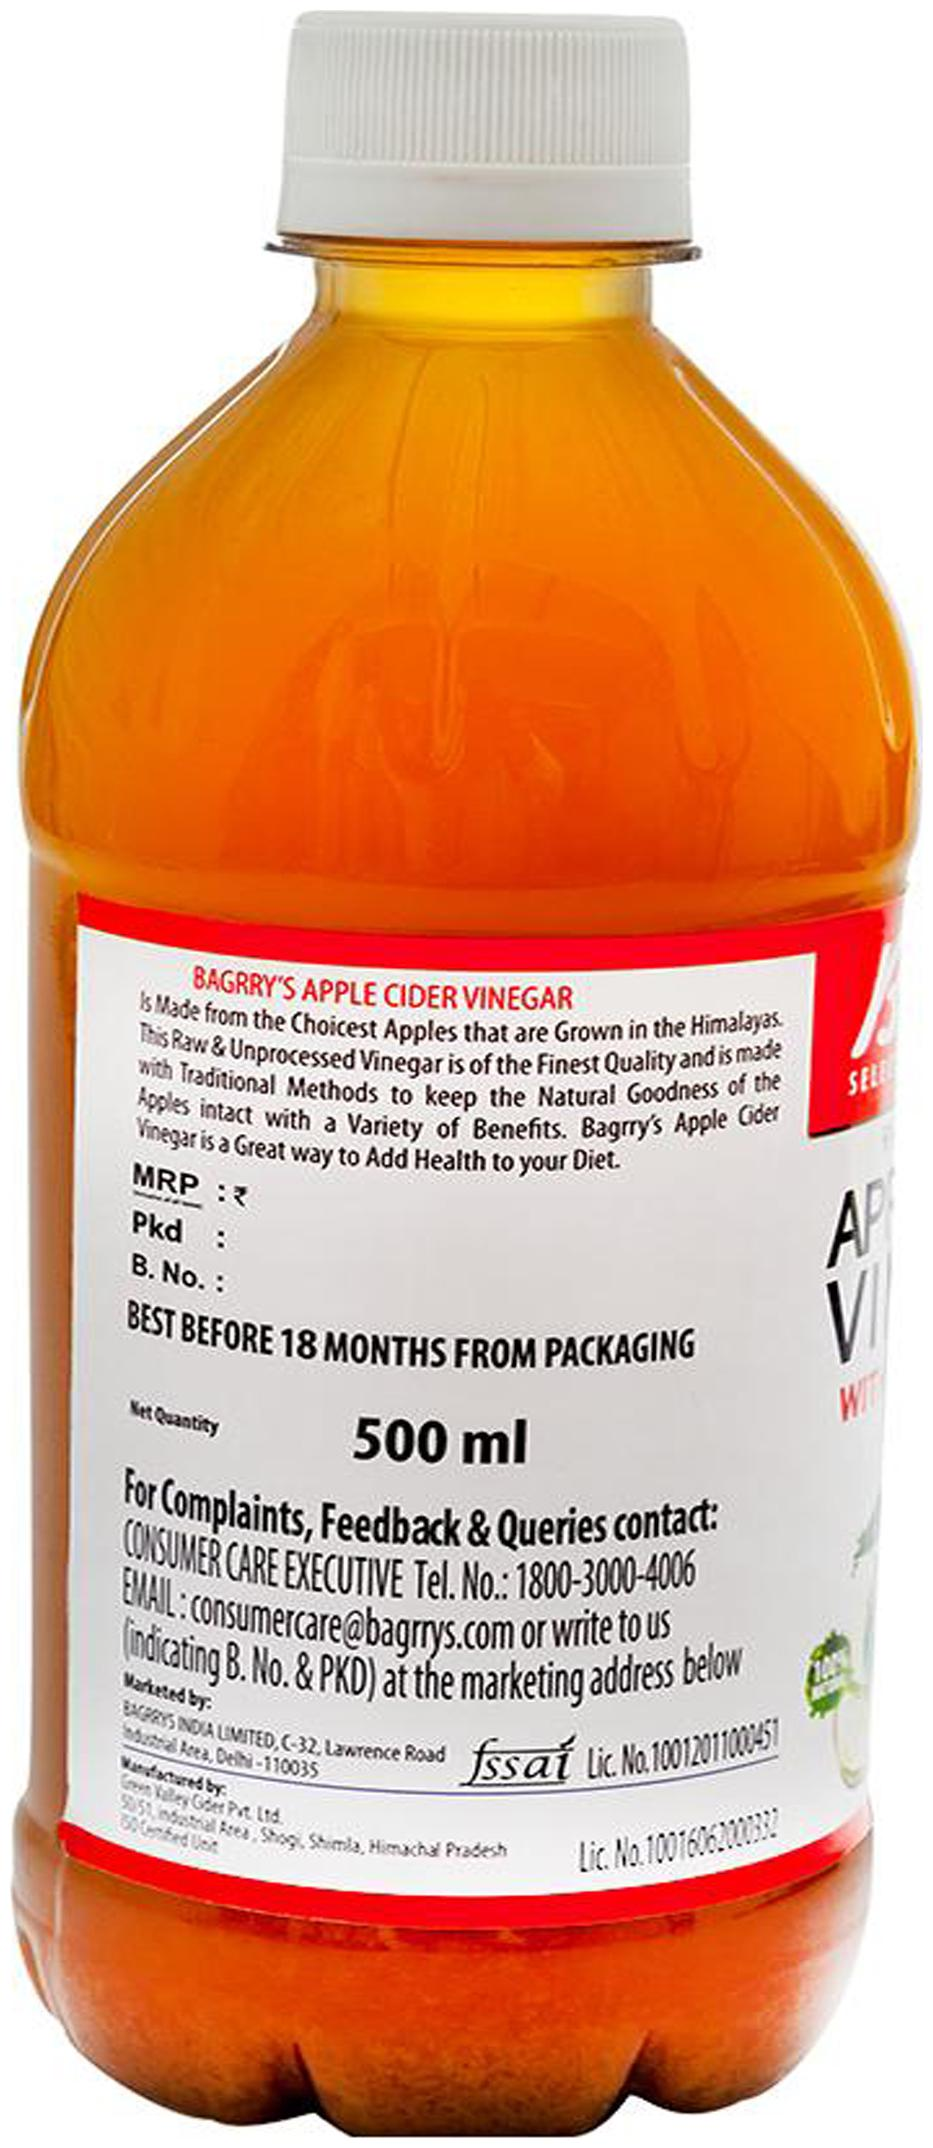fssai: (458, 1734, 580, 1786)
